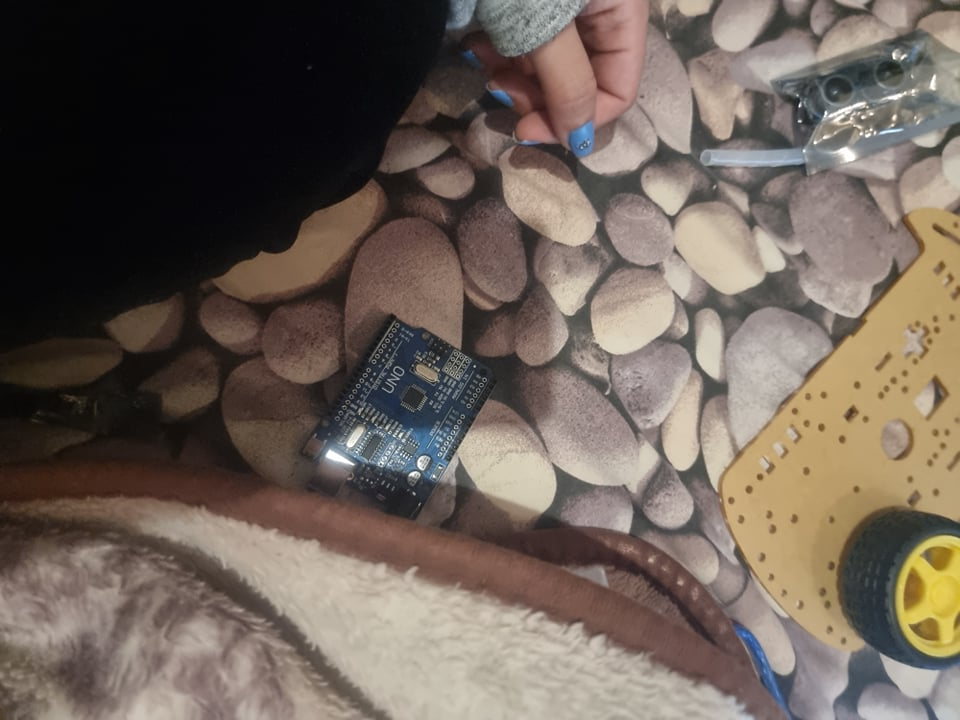SENSOR: (804, 54, 922, 119)
UNO R3: (301, 316, 496, 519)
